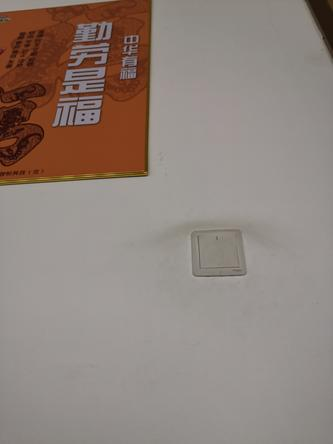switch: (191, 231, 245, 273)
